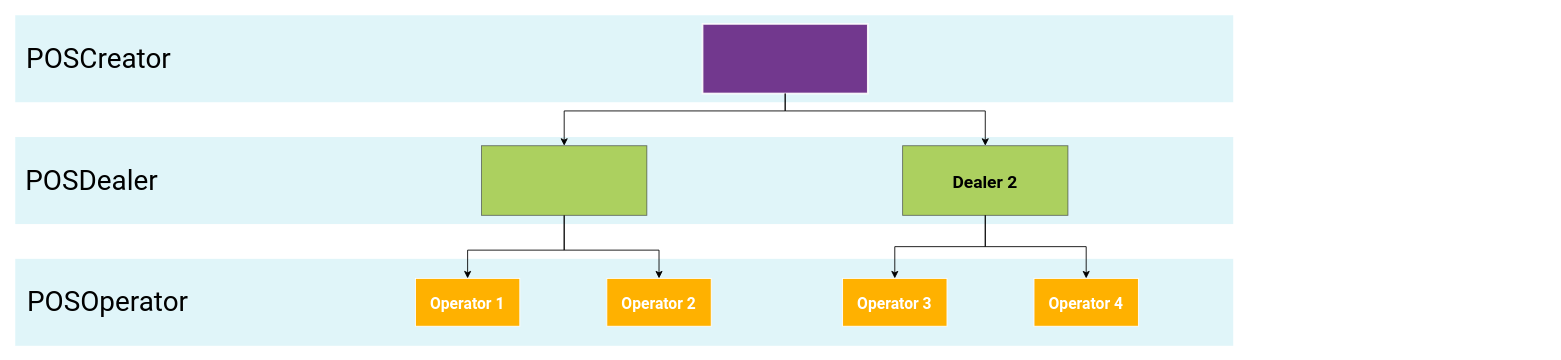
Image size: 1561x360. Some labels were removed from this diagram. The shapes that lost their labels are listed below. From the top down, each one's centre as x and y in pixels, then its label:
At point 784,58: "POSSystem".
At point 564,180: "Dealer 1".
